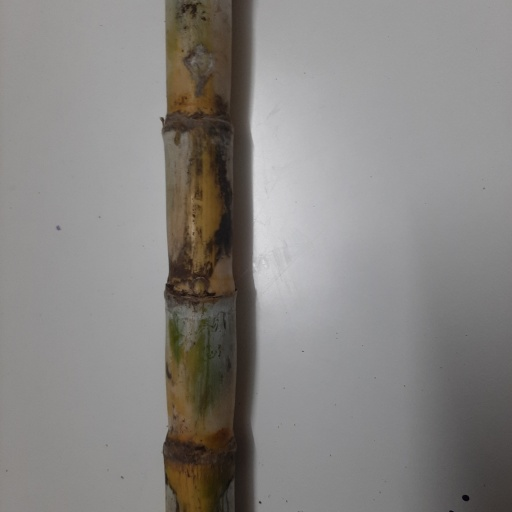Bud: (189, 277, 210, 297)
